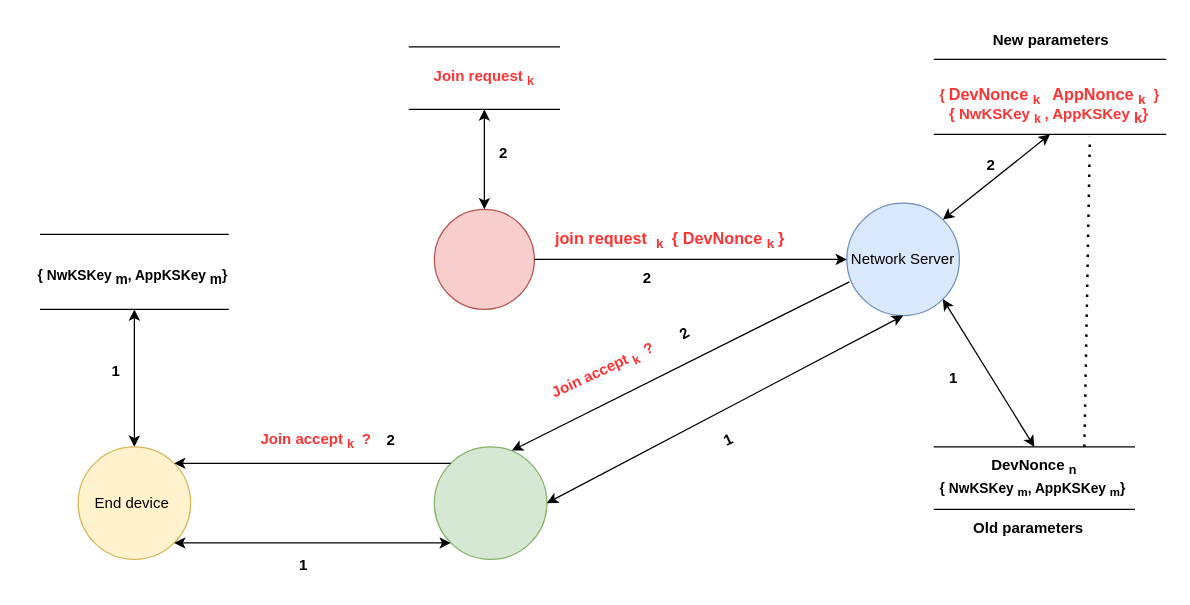
Some shapes in this 1190 by 605 pixel diagram are drawn without their labels. The shapes that lost their labels are listed below. From the top down, each one's centre as x and y in pixels, then its label:
At [483,258]: "Rogue Gateway".
At [490,502]: "Gateway".
